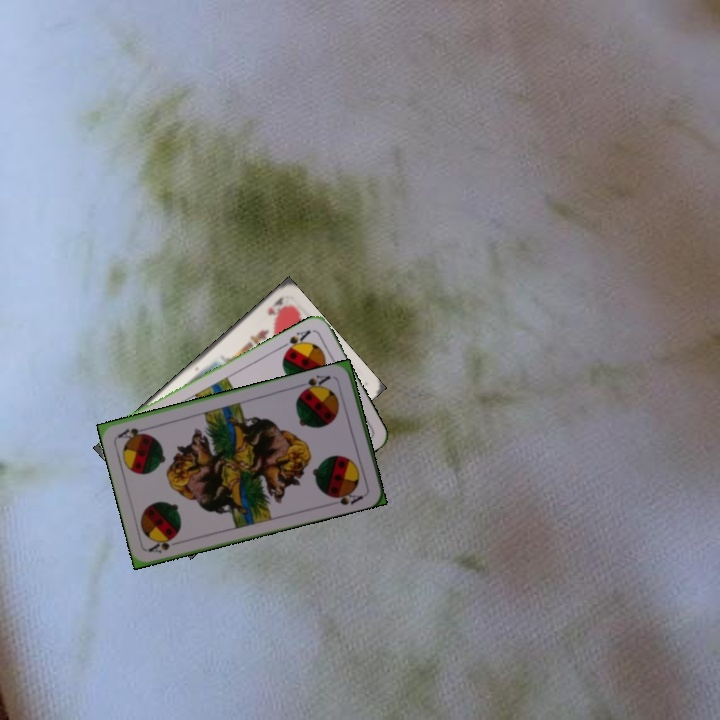HK: (264, 293, 289, 318)
SA: (277, 325, 313, 356), (145, 533, 185, 556), (297, 371, 333, 395)
